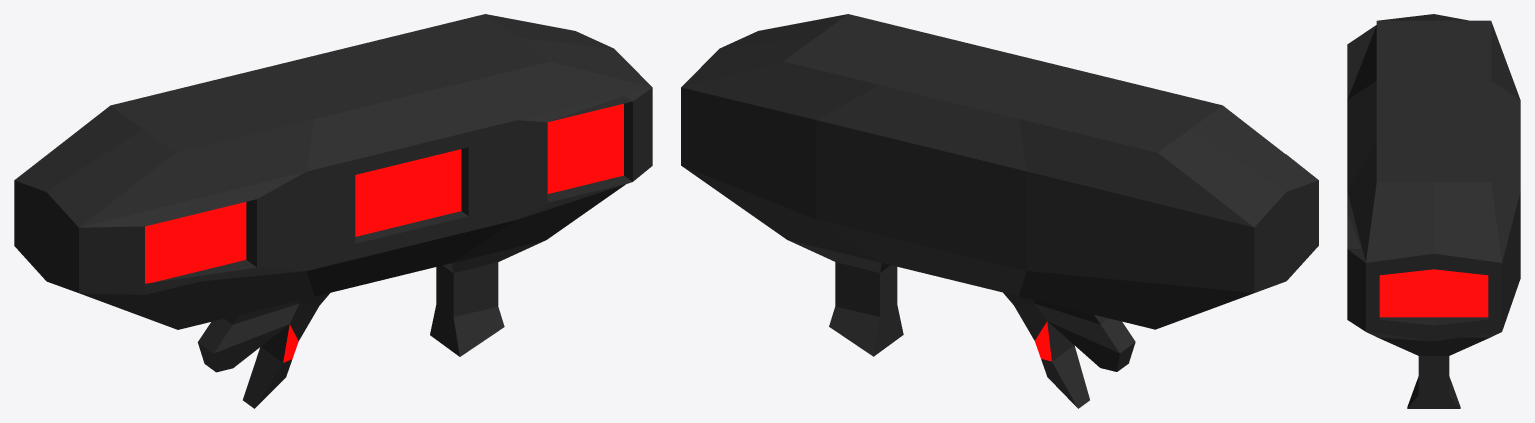
File: launcher.glb
3 renders of one model, left to right at view 1: azimuth 30°, elevation 25°; view 2: azimuth 150°, elevation 25°; view 3: azimuth 270°, elevation 25°, orthographic. The views are drawn at different scales.
Visible parts, largest first — view 1: Cube; view 2: Cube; view 3: Cube.
Boxes of the visible parts, x1,y1,x2,y2 form: Cube: (14, 14, 652, 408); Cube: (681, 14, 1318, 408); Cube: (1347, 14, 1520, 408).
Size of the model in its own units: 2 by 1.02 by 0.6.
